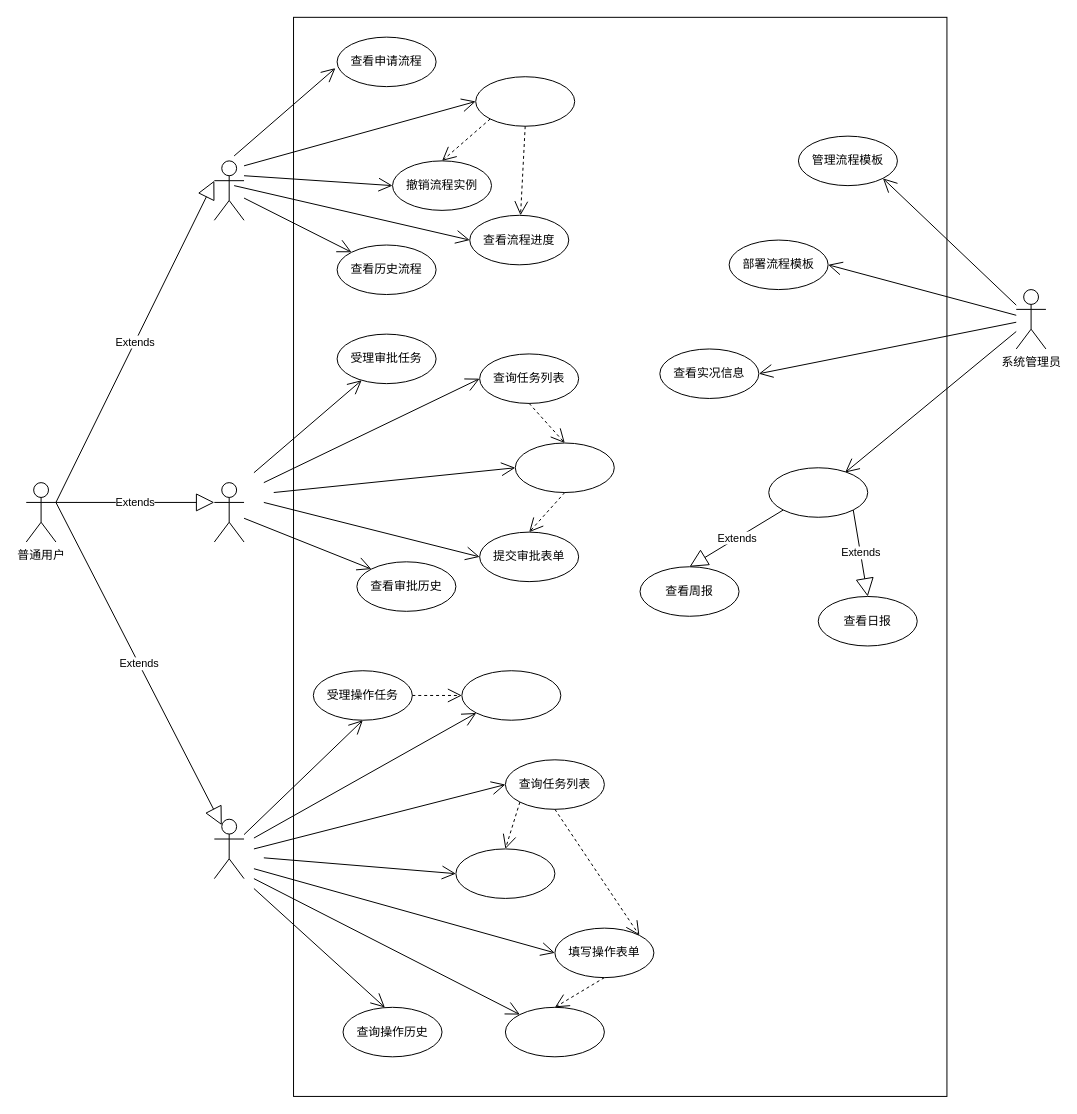
This 1077x1114 diagram has some shape labels left out. The centre of each missing label's shape, as x and y in pixels:
"创建流程实例" belongs at (525,101).
"填写审批表单" belongs at (564,467).
"委派操作任务" belongs at (505,873).
"审批人" belongs at (228,512).
"提交操作表单" belongs at (554,1031).
"操作人" belongs at (228,848).
"放弃受理任务" belongs at (511,695).
"查看系统报告" belongs at (818,492).
"申请人" belongs at (228,190).
